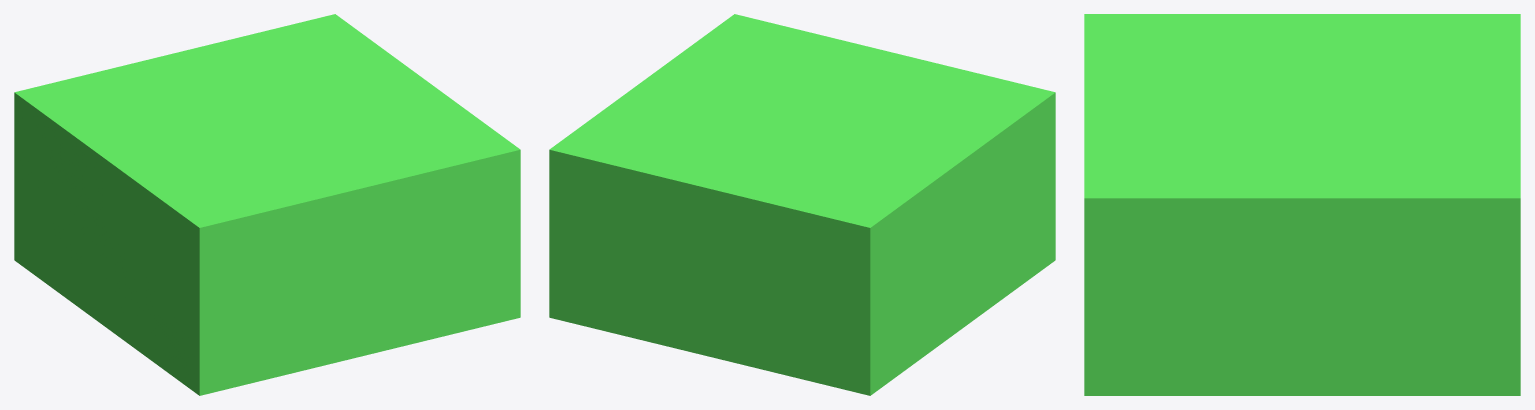
File: gaodimian.dae
3 renders of one model, left to right at view 1: azimuth 30°, elevation 25°; view 2: azimuth 150°, elevation 25°; view 3: azimuth 270°, elevation 25°, orthographic. The views are drawn at different scales.
Parts seen in each view (by area): view 1: gaodimian; view 2: gaodimian; view 3: gaodimian.
Part boxes in pixels (x1,y1,x2,y2): gaodimian: (14, 14, 520, 395); gaodimian: (549, 14, 1055, 395); gaodimian: (1084, 14, 1520, 395).
Size of the model in its own units: 39.37 by 39.37 by 19.69.
